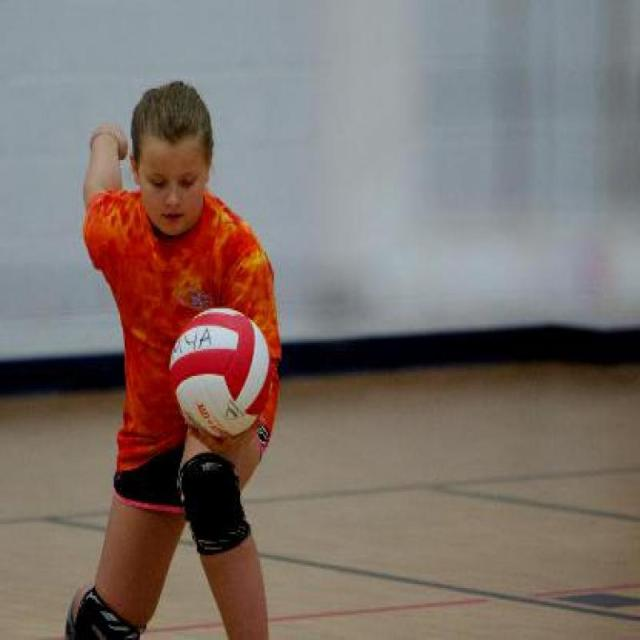volleyball: (166, 306, 277, 438)
